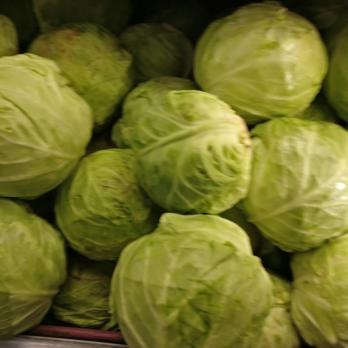Cabbage: (0, 3, 348, 348)
